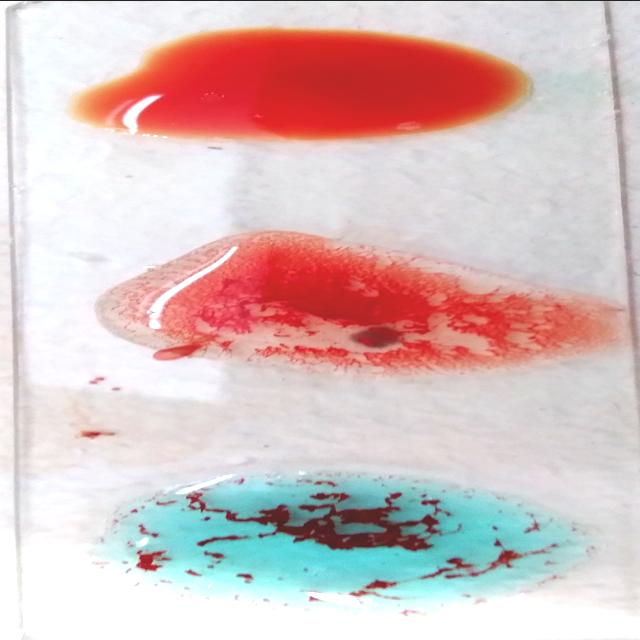A: (94, 468, 610, 609)
D: (92, 236, 634, 380)
